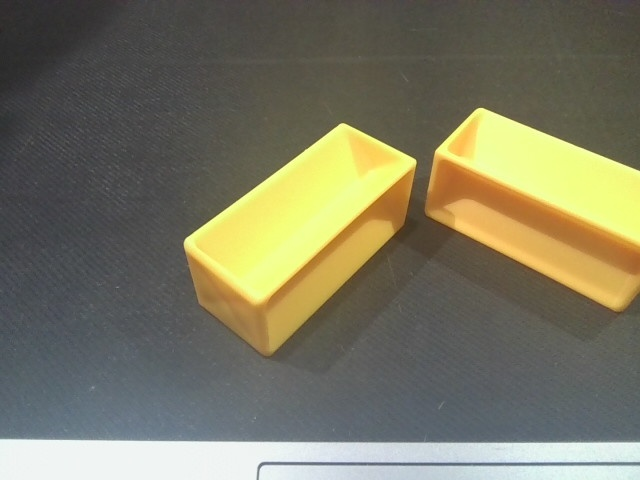YellowSample: (182, 122, 420, 360), (423, 104, 640, 316)
